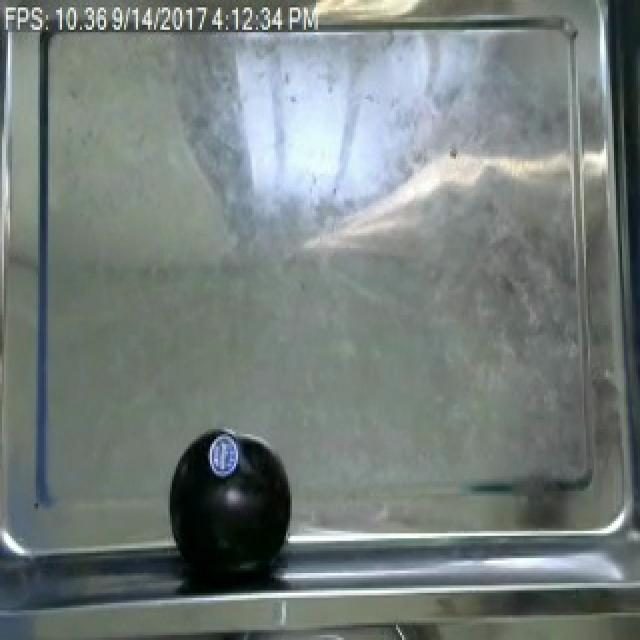Fruit: (160, 420, 302, 586)
